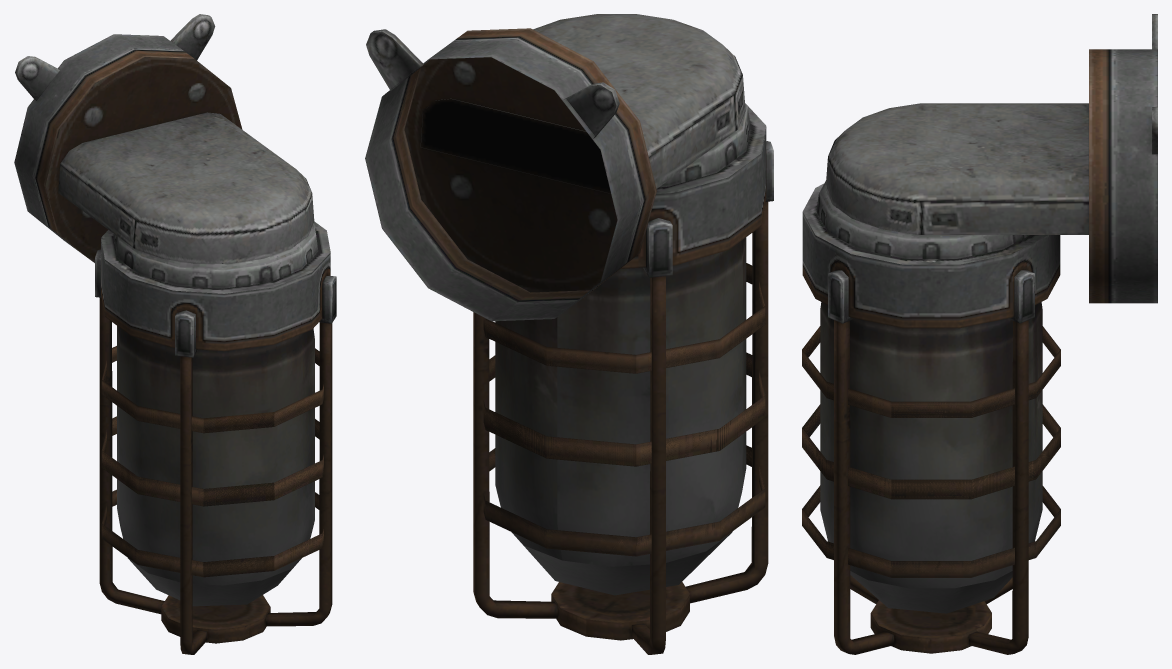
File: wall_small.dae
The picture shows the model from 3 angles, left to right: view 1: azimuth 30°, elevation 25°; view 2: azimuth 150°, elevation 25°; view 3: azimuth 270°, elevation 25°; orthographic projection. The views are drawn at different scales.
Visible parts, largest first — view 1: Mesh__2_; view 2: Mesh__2_; view 3: Mesh__2_.
Part boxes in pixels (box(x1,y1,x2,y2)): Mesh__2_: box(14, 14, 336, 654); Mesh__2_: box(365, 14, 773, 654); Mesh__2_: box(802, 14, 1157, 654).
Bounding box in the file's own units: 0.2463 × 0.6048 × 0.3438.
